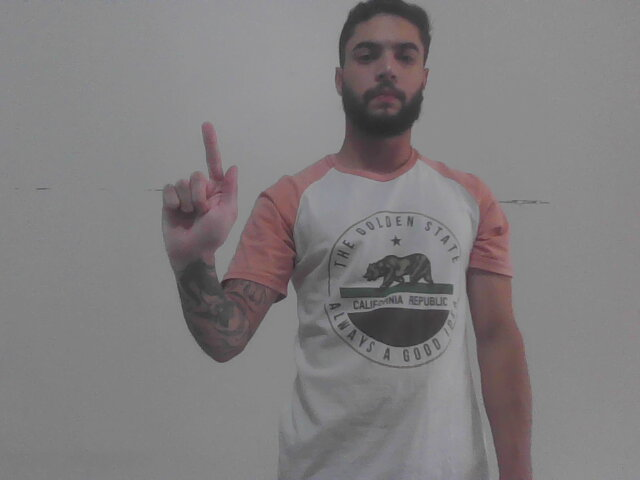g: (155, 116, 246, 266)
